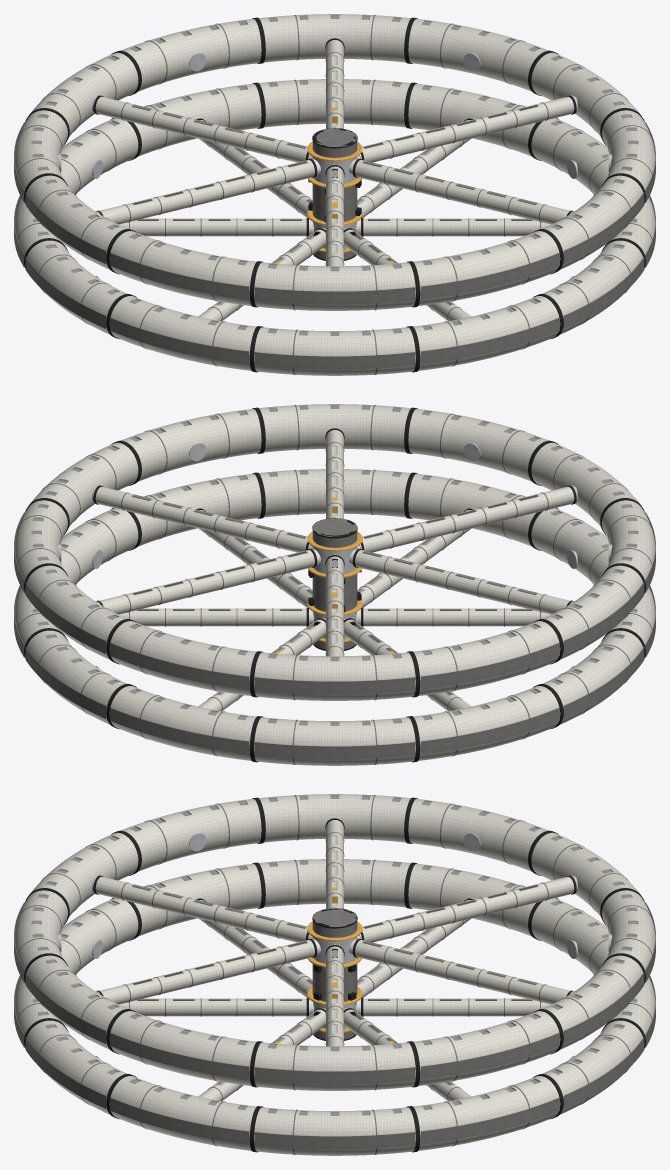
The model's file is counter_rotating_assembly.glb.
3 views of the same model, one above another, from view 1: azimuth 30°, elevation 25°; view 2: azimuth 150°, elevation 25°; view 3: azimuth 270°, elevation 25° (orthographic).
Visible parts, largest first — view 1: A_segment_3_segment_hull, B_segment_2_segment_hull, A_segment_2_segment_hull, A_segment_4_segment_hull, A_segment_9_segment_hull, B_segment_8_segment_hull, A_segment_10_segment_hull, A_segment_8_segment_hull, B_segment_7_segment_hull, B_segment_9_segment_hull, B_segment_3_segment_hull, B_segment_1_segment_hull (+37 smaller); view 2: A_segment_11_segment_hull, B_segment_10_segment_hull, A_segment_10_segment_hull, A_segment_12_segment_hull, A_segment_5_segment_hull, B_segment_4_segment_hull, A_segment_6_segment_hull, A_segment_4_segment_hull, B_segment_3_segment_hull, B_segment_5_segment_hull, B_segment_11_segment_hull, B_segment_9_segment_hull (+37 smaller); view 3: A_segment_7_segment_hull, B_segment_6_segment_hull, A_segment_6_segment_hull, A_segment_8_segment_hull, A_segment_1_segment_hull, B_segment_12_segment_hull, A_segment_2_segment_hull, A_segment_12_segment_hull, B_segment_1_segment_hull, B_segment_11_segment_hull, B_segment_7_segment_hull, B_segment_5_segment_hull (+37 smaller).
Part boxes in pixels (left/top/right/bottom): A_segment_3_segment_hull: left=259, top=14, right=410, bottom=62; B_segment_2_segment_hull: left=259, top=79, right=410, bottom=127; A_segment_2_segment_hull: left=408, top=18, right=548, bottom=91; A_segment_4_segment_hull: left=121, top=18, right=261, bottom=91; A_segment_9_segment_hull: left=254, top=262, right=415, bottom=310; B_segment_8_segment_hull: left=254, top=327, right=415, bottom=375; A_segment_10_segment_hull: left=413, top=231, right=560, bottom=305; A_segment_8_segment_hull: left=109, top=231, right=256, bottom=305; B_segment_7_segment_hull: left=109, top=296, right=256, bottom=370; B_segment_9_segment_hull: left=413, top=296, right=560, bottom=370; B_segment_3_segment_hull: left=134, top=83, right=261, bottom=156; B_segment_1_segment_hull: left=408, top=83, right=535, bottom=156; A_segment_11_segment_hull: left=259, top=404, right=410, bottom=452; B_segment_10_segment_hull: left=259, top=469, right=410, bottom=517; A_segment_10_segment_hull: left=408, top=408, right=548, bottom=481; A_segment_12_segment_hull: left=121, top=408, right=261, bottom=481; A_segment_5_segment_hull: left=254, top=652, right=415, bottom=700; B_segment_4_segment_hull: left=254, top=717, right=415, bottom=765; A_segment_6_segment_hull: left=413, top=621, right=560, bottom=695; A_segment_4_segment_hull: left=109, top=621, right=256, bottom=695; B_segment_3_segment_hull: left=109, top=686, right=256, bottom=760; B_segment_5_segment_hull: left=413, top=686, right=560, bottom=760; B_segment_11_segment_hull: left=134, top=473, right=261, bottom=546; B_segment_9_segment_hull: left=408, top=473, right=535, bottom=546; A_segment_7_segment_hull: left=259, top=794, right=410, bottom=842; B_segment_6_segment_hull: left=259, top=859, right=410, bottom=907; A_segment_6_segment_hull: left=408, top=798, right=548, bottom=871; A_segment_8_segment_hull: left=121, top=798, right=261, bottom=871; A_segment_1_segment_hull: left=254, top=1042, right=415, bottom=1090; B_segment_12_segment_hull: left=254, top=1107, right=415, bottom=1155; A_segment_2_segment_hull: left=413, top=1011, right=560, bottom=1085; A_segment_12_segment_hull: left=109, top=1011, right=256, bottom=1085; B_segment_1_segment_hull: left=413, top=1076, right=560, bottom=1150; B_segment_11_segment_hull: left=109, top=1076, right=256, bottom=1150; B_segment_7_segment_hull: left=134, top=863, right=261, bottom=936; B_segment_5_segment_hull: left=408, top=863, right=535, bottom=936.
Size of the model in its own units: 53.81 by 10.6 by 53.81.
7 materials, 4 textured.
